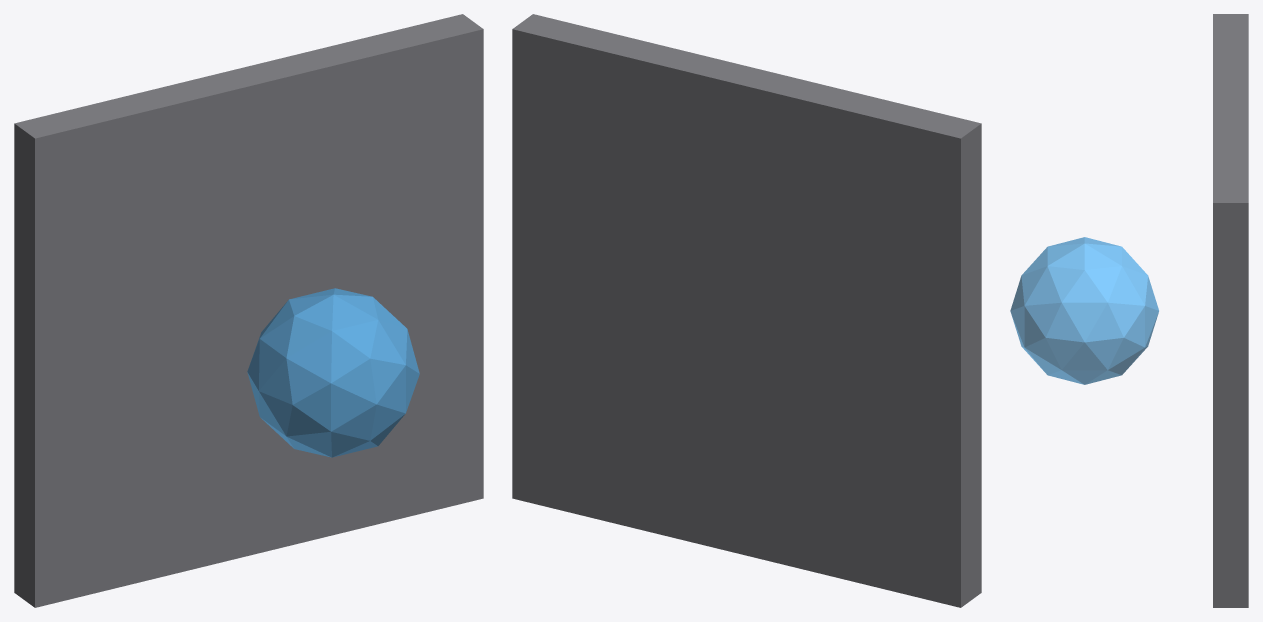
Rendered from 09_chain_snare_trap.glb.
The picture shows the model from 3 angles, left to right: view 1: azimuth 30°, elevation 25°; view 2: azimuth 150°, elevation 25°; view 3: azimuth 270°, elevation 25°; orthographic projection. The views are drawn at different scales.
Visible parts, largest first — view 1: trap_base, hazard_core; view 2: trap_base; view 3: trap_base, hazard_core.
Boxes of the visible parts, x1,y1,x2,y2 form: trap_base: (14,14,483,607); hazard_core: (247,288,419,457); trap_base: (512,14,981,607); trap_base: (1213,14,1248,607); hazard_core: (1010,237,1158,384).
Size of the model in its own units: 1.5 by 1.5 by 0.8.
